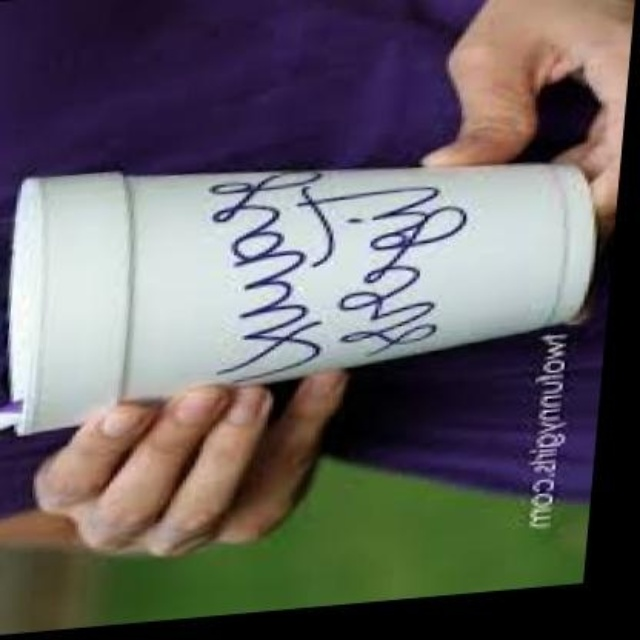trash: (9, 165, 594, 432)
